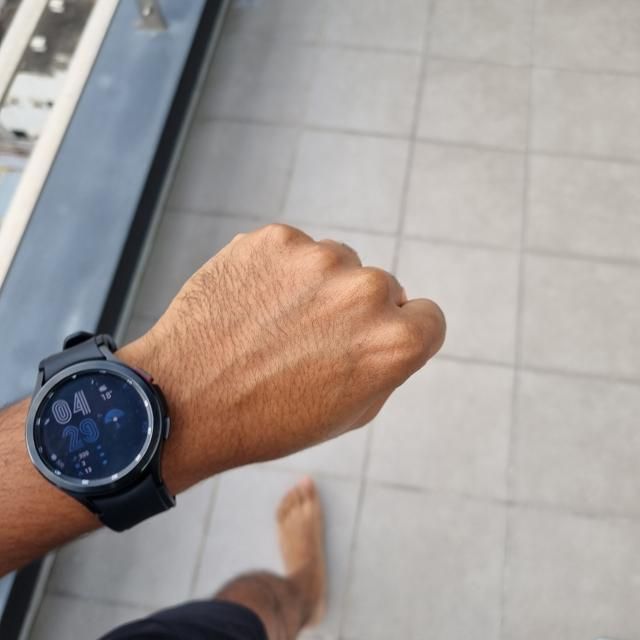Rock: (122, 220, 447, 637)
